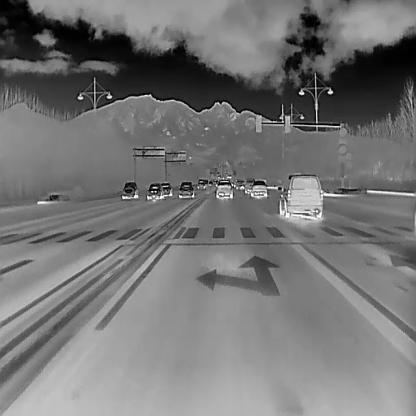car: (277, 173, 323, 218), (215, 178, 234, 197), (122, 181, 139, 199), (177, 181, 194, 199), (250, 179, 267, 197), (146, 182, 163, 199), (160, 180, 173, 196), (243, 177, 254, 193), (235, 178, 244, 189), (196, 178, 205, 188), (207, 179, 212, 187)
